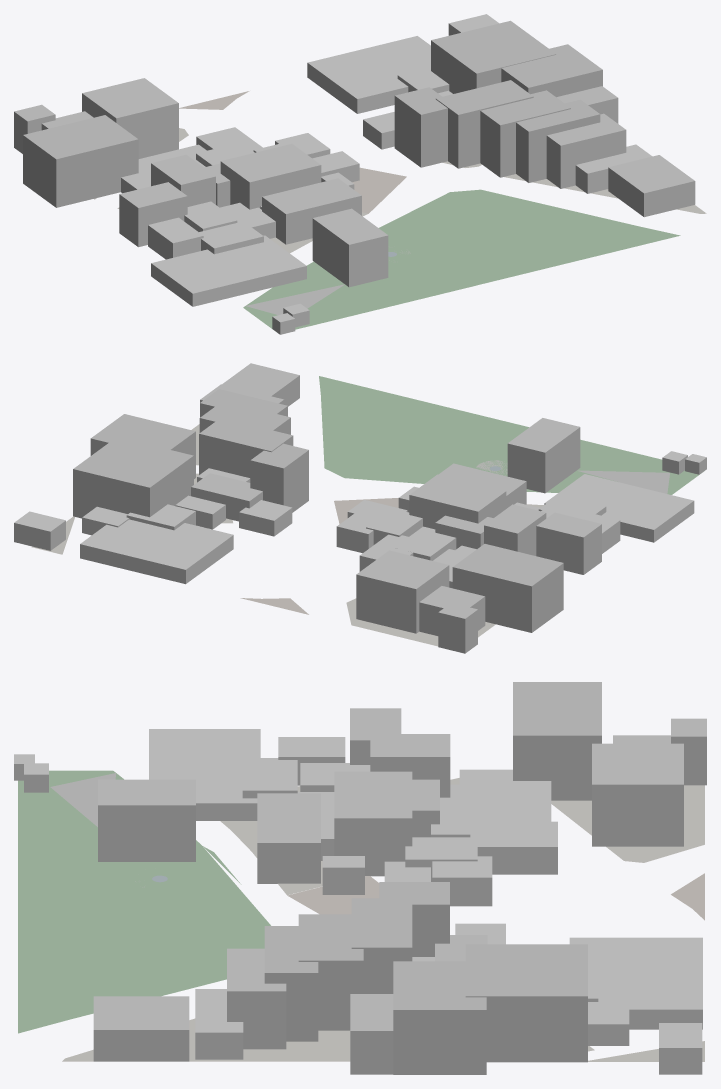
Rendered from 109_105_mid.glb.
The picture shows the model from 3 angles, top to bottom: view 1: azimuth 30°, elevation 25°; view 2: azimuth 150°, elevation 25°; view 3: azimuth 270°, elevation 25°; orthographic projection. The views are drawn at different scales.
Size of the model in its own units: 564 by 57.94 by 504.
